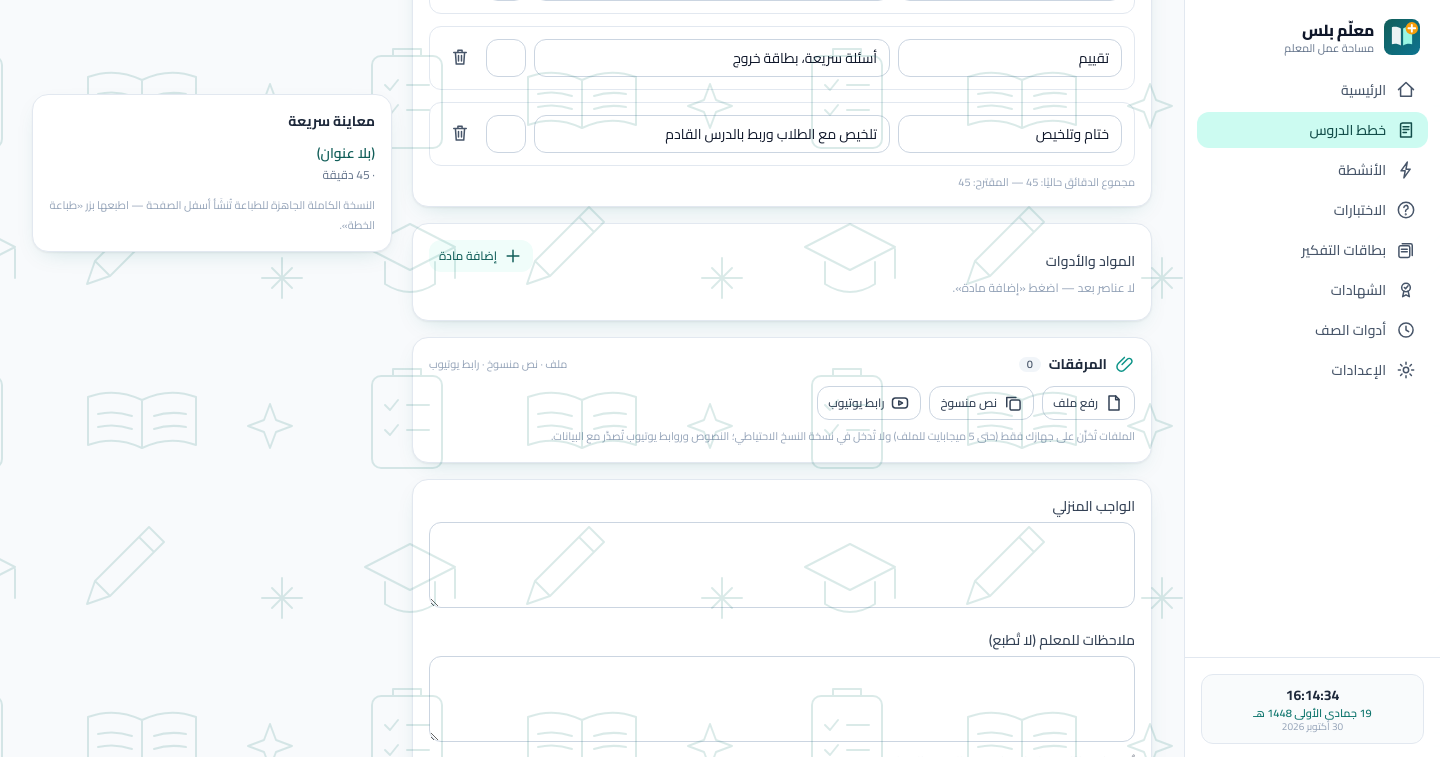
Test case: مرفقات محرر الخطة › رابط يوتيوب غير صالح يُظهر رسالة خطأ ولا يُضاف
The width and height of the screenshot is (1440, 757).
(page scrolled)
Click the button "رابط يوتيوب". click: {"x": 869, "y": 403}
box: [817, 386, 922, 420]
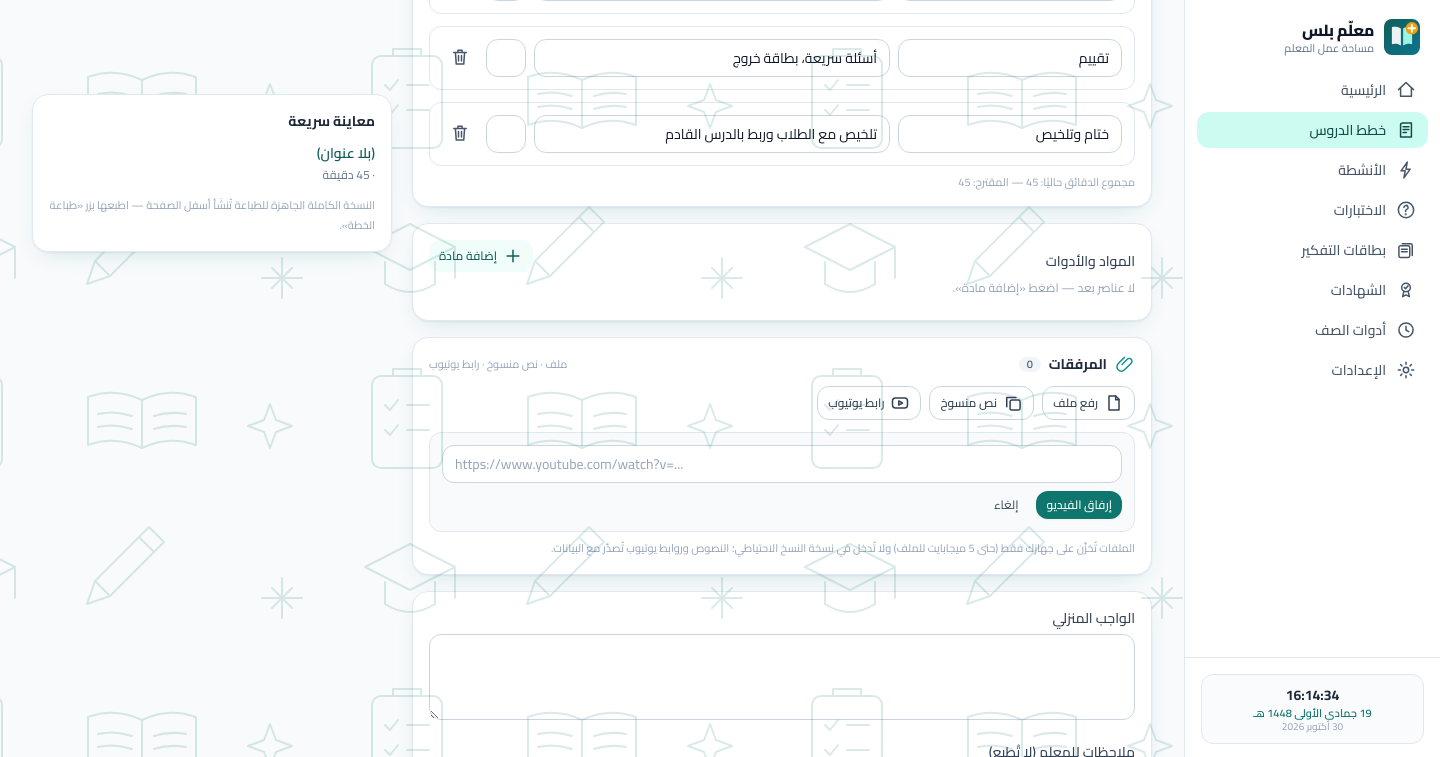
Type "https://vimeo.com/999" into the field named "رابط يوتيوب". click: {"x": 782, "y": 464}
box: [442, 445, 1122, 483]
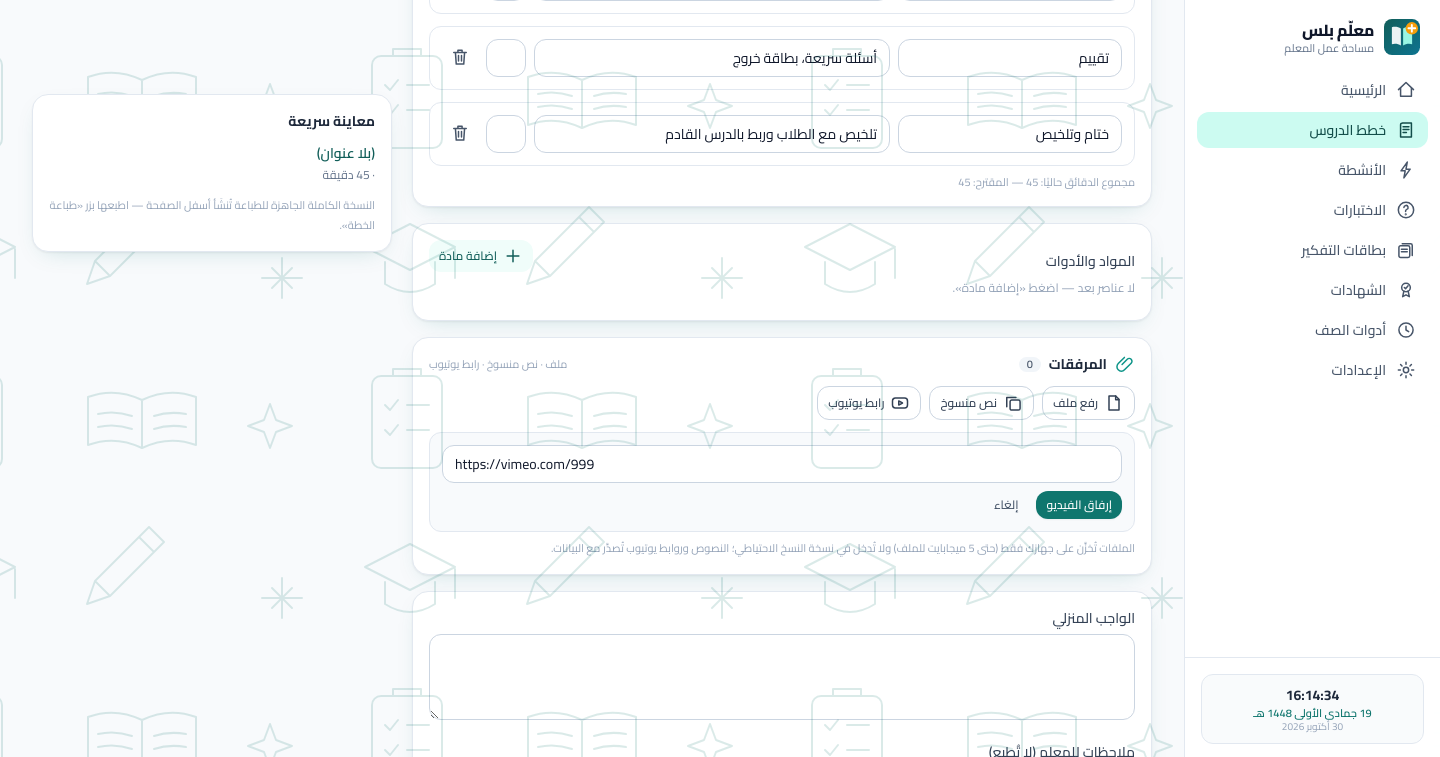
Click the button "إرفاق الفيديو". click: {"x": 1079, "y": 505}
box: [1036, 491, 1122, 519]
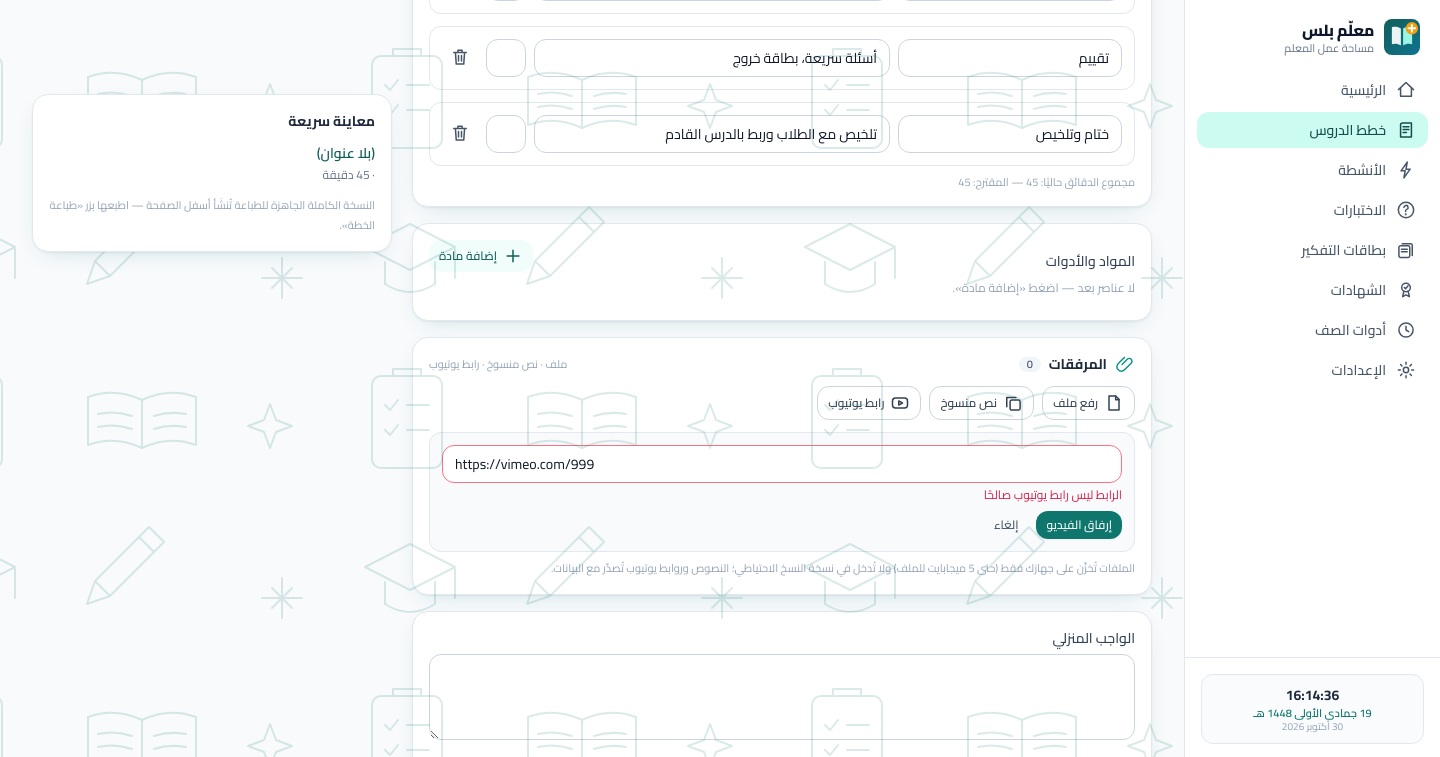
Expected: the text "الرابط ليس رابط يوتيوب صالحًا" is shown, [984, 483, 1122, 506]
